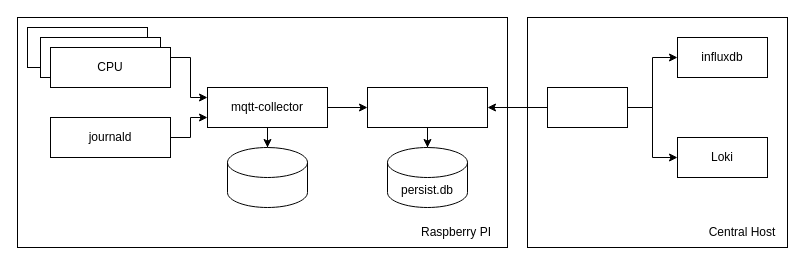
Some shapes in this 805 by 265 pixel diagram are drawn without their labels. Here are the shapes that lost their labels. From the top down, the centre of each, then its label:
At point (427, 107): "mosquitto".
At point (587, 107): "data-collector".
At point (267, 177): "checkpoint".
